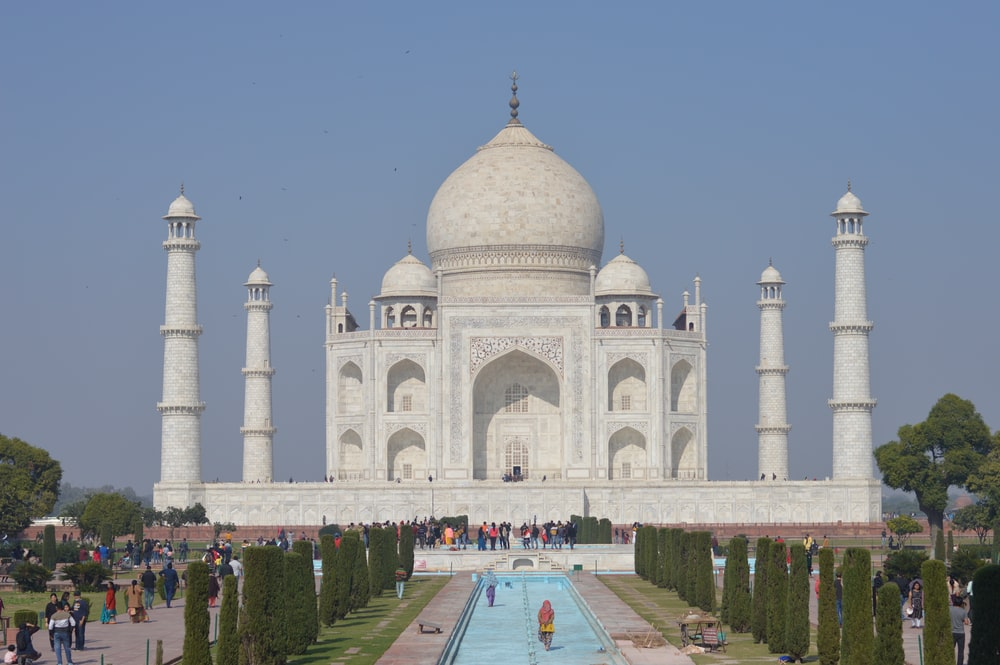Mosque: (123, 70, 941, 550)
